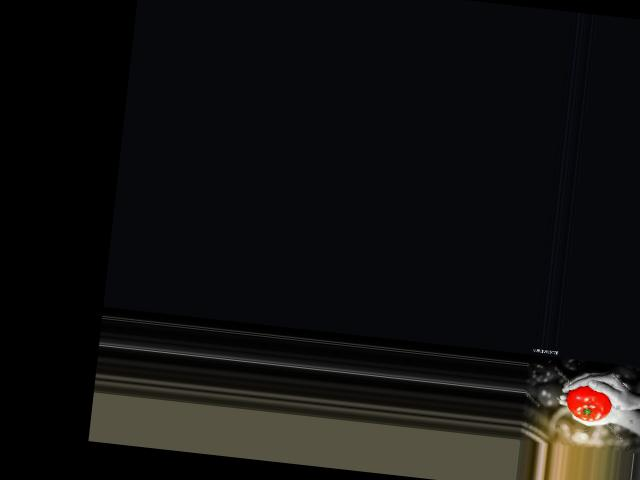tomato: (565, 383, 614, 423)
